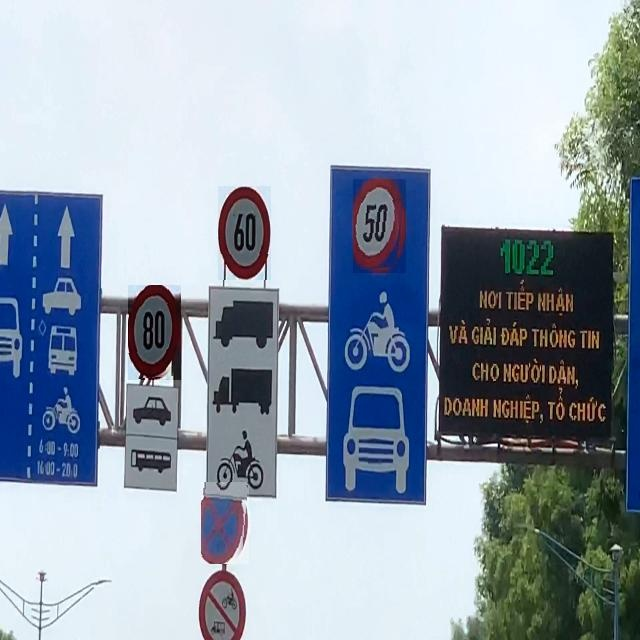bien_chi_dan: (128, 285, 181, 380), (353, 180, 406, 274), (218, 186, 271, 280), (202, 482, 250, 564)
